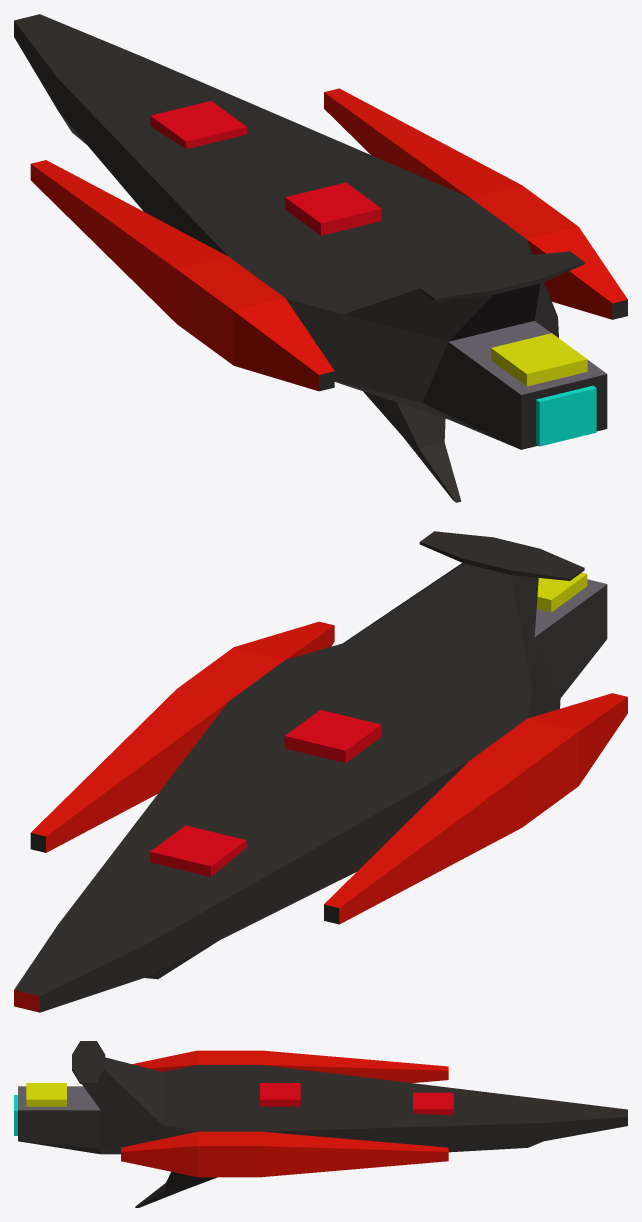
Rendered from Prototype_FrigateHull.fbx.
The picture shows the model from 3 angles, top to bottom: view 1: azimuth 30°, elevation 25°; view 2: azimuth 150°, elevation 25°; view 3: azimuth 270°, elevation 25°; orthographic projection. The views are drawn at different scales.
Parts seen in each view (by area): view 1: Hull, Power Slot, Weapon Slot 2, Weapon Slot 1, Engine Slot; view 2: Hull, Weapon Slot 2, Weapon Slot 1, Power Slot; view 3: Hull, Power Slot, Weapon Slot 2, Weapon Slot 1.
Boxes of the visible parts, <box> form: Hull: <box>14,14,627,502</box>; Power Slot: <box>491,333,587,386</box>; Weapon Slot 2: <box>285,182,381,235</box>; Weapon Slot 1: <box>150,101,246,149</box>; Engine Slot: <box>536,385,596,446</box>; Hull: <box>14,531,627,1012</box>; Weapon Slot 2: <box>284,710,381,762</box>; Weapon Slot 1: <box>150,825,246,876</box>; Power Slot: <box>536,572,587,612</box>; Hull: <box>18,1041,627,1207</box>; Power Slot: <box>26,1083,66,1106</box>; Weapon Slot 2: <box>260,1083,300,1106</box>; Weapon Slot 1: <box>413,1092,453,1115</box>.
Size of the model in its own units: 2666 by 7240 by 1905.
